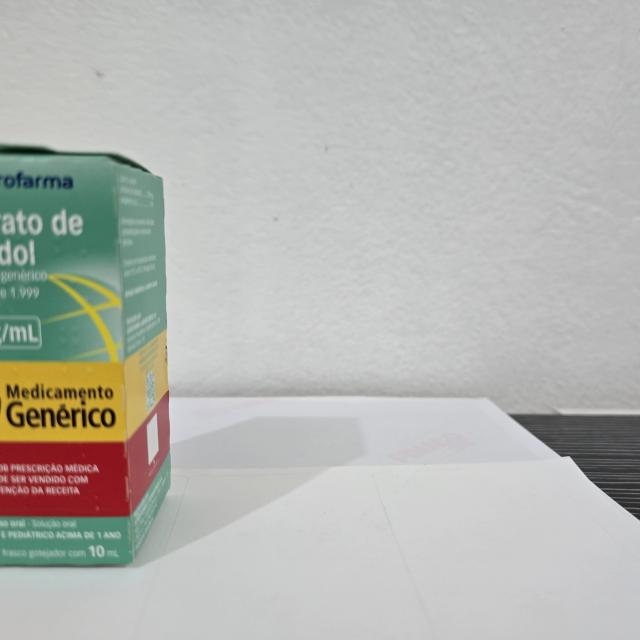tramadol: (0, 141, 174, 571)
